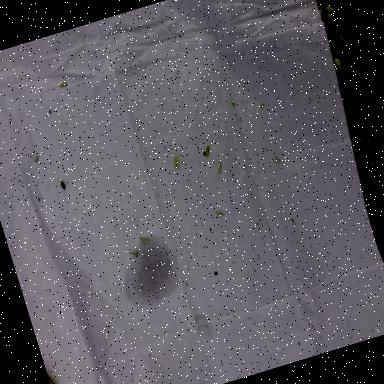pbw: (202, 143, 213, 156), (139, 234, 150, 246), (214, 161, 224, 173), (172, 156, 180, 168), (58, 81, 68, 88), (216, 210, 224, 218), (33, 155, 40, 162), (274, 156, 280, 162), (260, 102, 264, 107)
